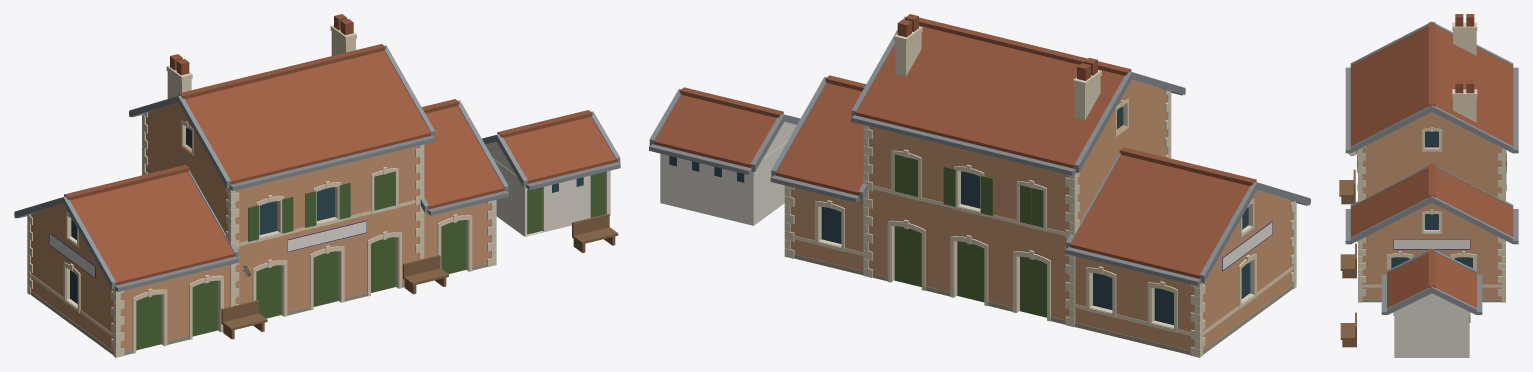
File: railway-station.glb
3 views of the same model, side by side, from view 1: azimuth 30°, elevation 25°; view 2: azimuth 150°, elevation 25°; view 3: azimuth 270°, elevation 25° (orthographic). The views are drawn at different scales.
Parts seen in each view (by area): view 1: railway-station; view 2: railway-station; view 3: railway-station.
Boxes of the visible parts, x1=… form: railway-station: x1=14, y1=14, x2=620, y2=357; railway-station: x1=649, y1=14, x2=1310, y2=357; railway-station: x1=1339, y1=14, x2=1518, y2=357.
Size of the model in its own units: 17 by 6.77 by 5.97.
